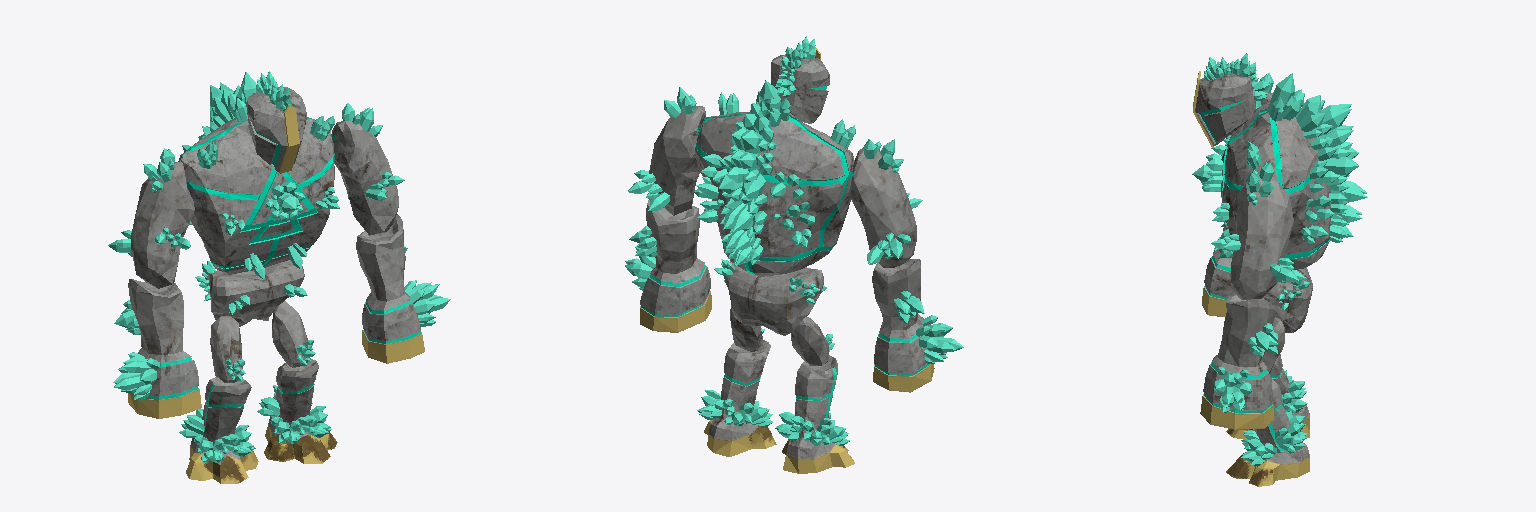
The picture shows the model from 3 angles: view 1: azimuth 30°, elevation 25°; view 2: azimuth 150°, elevation 25°; view 3: azimuth 270°, elevation 25°; orthographic projection.
Parts seen in each view (by area): view 1: drorania_entity; view 2: drorania_entity; view 3: drorania_entity.
Boxes of the visible parts, <box> form: drorania_entity: <box>108,71,450,483</box>; drorania_entity: <box>625,36,963,473</box>; drorania_entity: <box>1192,53,1367,486</box>.
Bounding box in the file's own units: 19.26 × 21.52 × 8.67.
Materials: 1 (1 with a texture image).